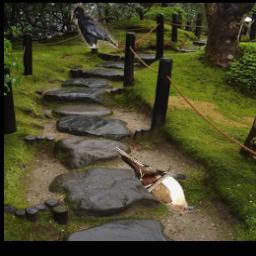Crow: (71, 4, 118, 48)
Cuckoo: (117, 146, 197, 213)
